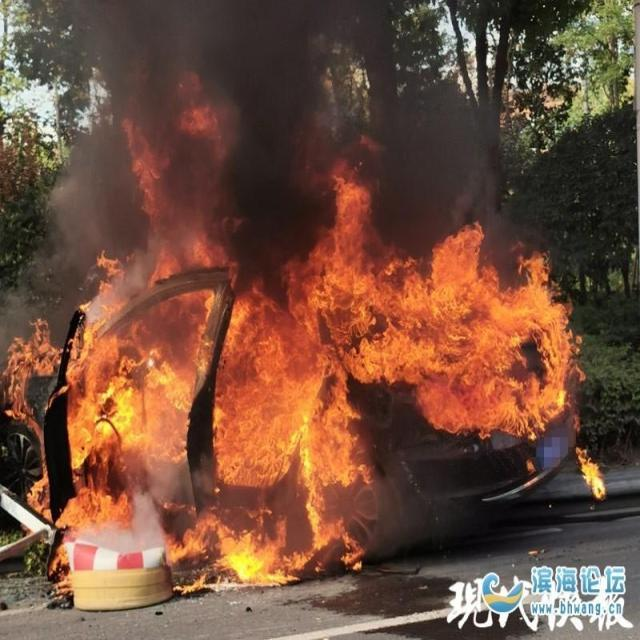Fire: (1, 85, 606, 596)
Smoke: (1, 1, 580, 347), (72, 450, 478, 563)
